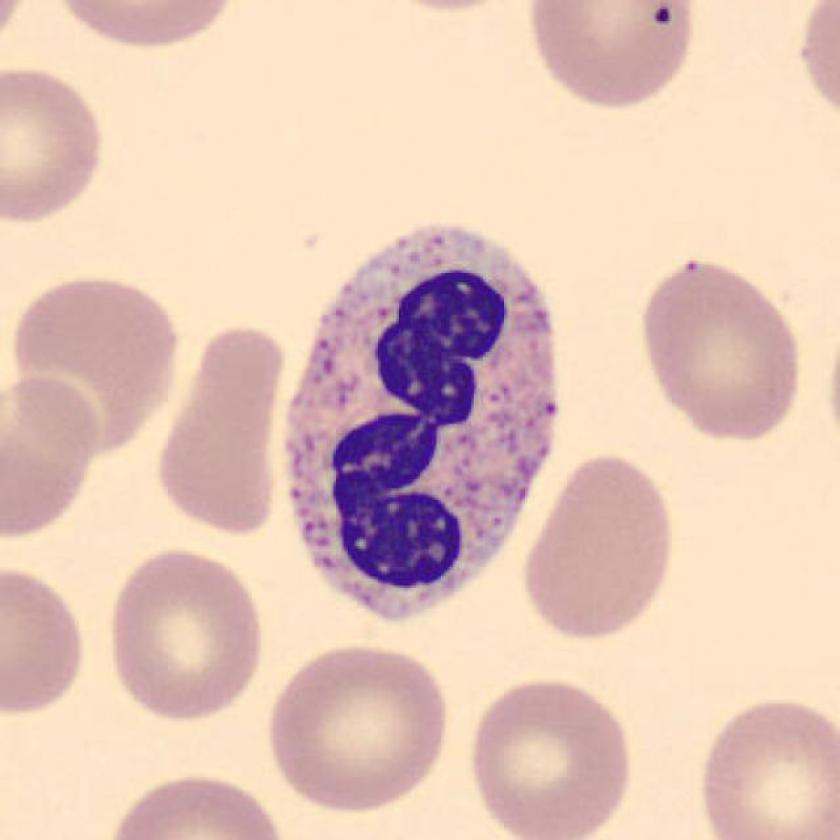neutrophil: (285, 230, 556, 617)
